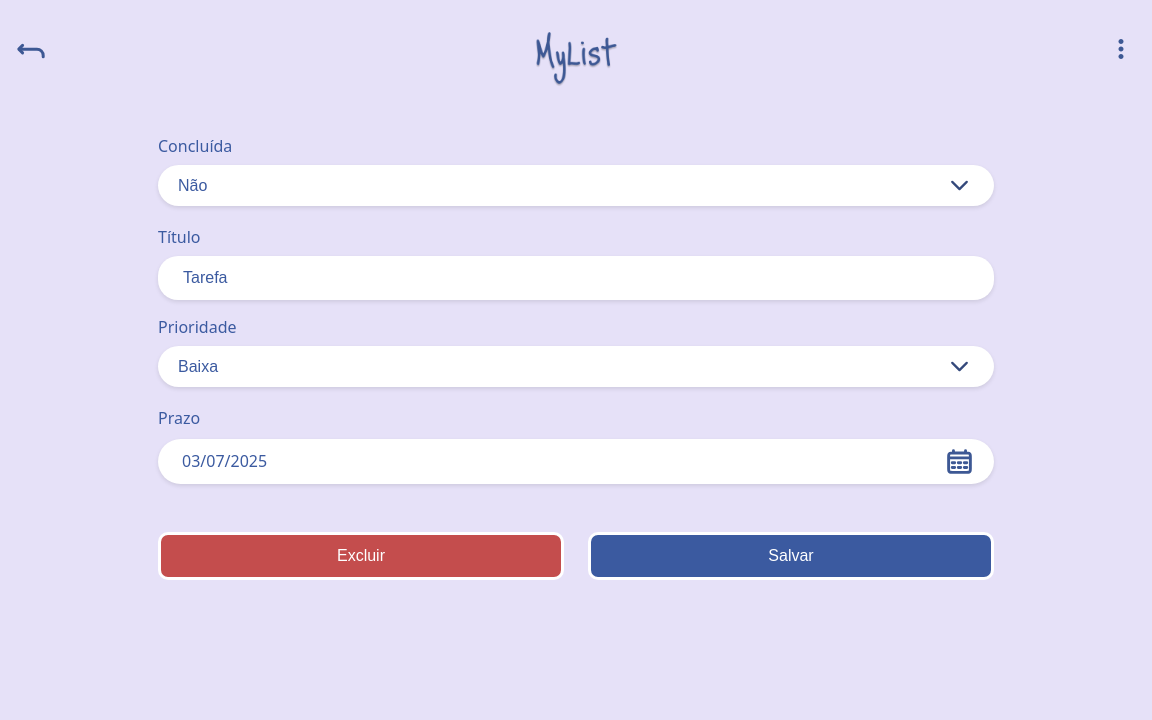
it: EditTask › deletes task (success)
The image size is (1152, 720).
expect the field labelled "Título" is shown: met, box top-left (158, 256), bottom-right (994, 300)
Click the button "Excluir".
click(361, 556)  # box top-left (158, 532), bottom-right (564, 580)
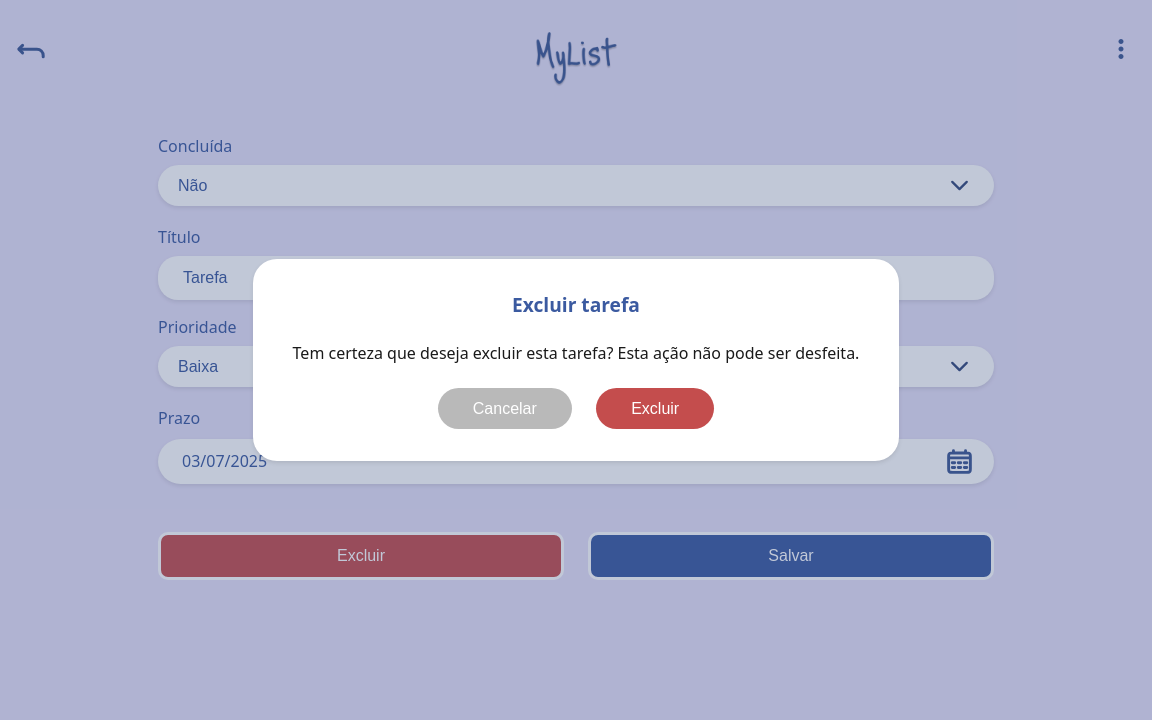
expect the text "Tem certeza que deseja excluir" is shown: met, box top-left (293, 342), bottom-right (859, 364)
Click the button "Excluir".
click(655, 408)  # box top-left (596, 388), bottom-right (714, 429)
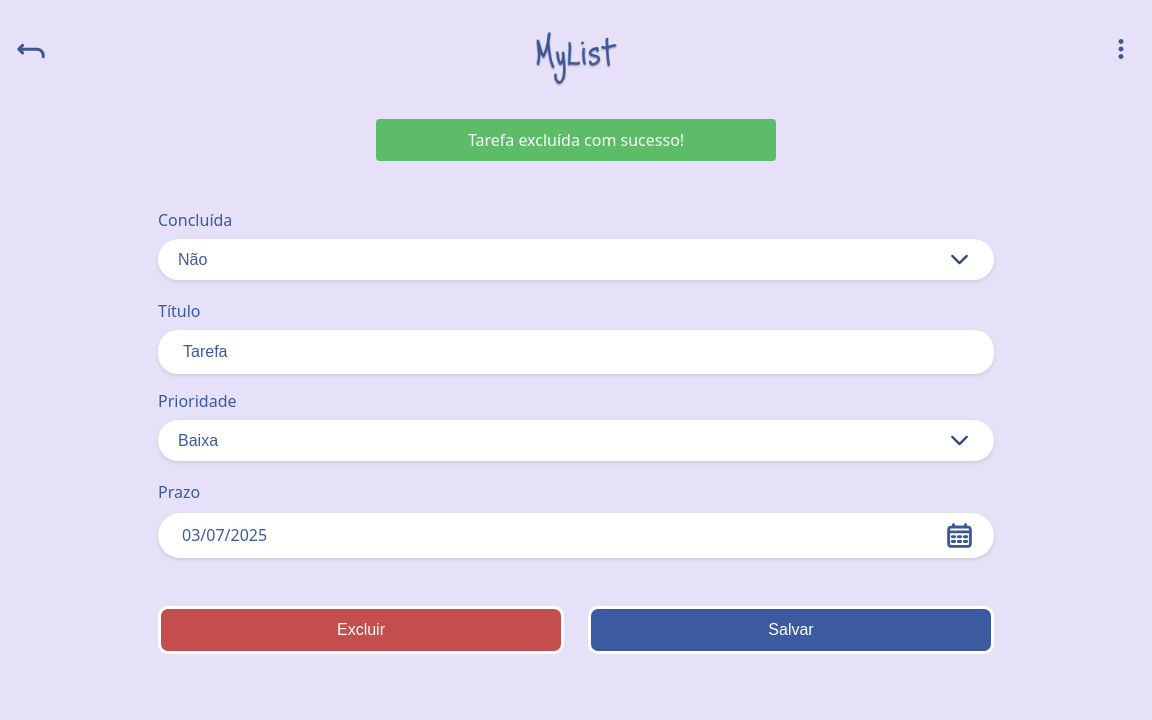
expect the text "Tem certeza que deseja excluir" is gone: met
expect the text "Tarefa excluída com sucesso!" is shown: met, box top-left (376, 119), bottom-right (776, 161)
